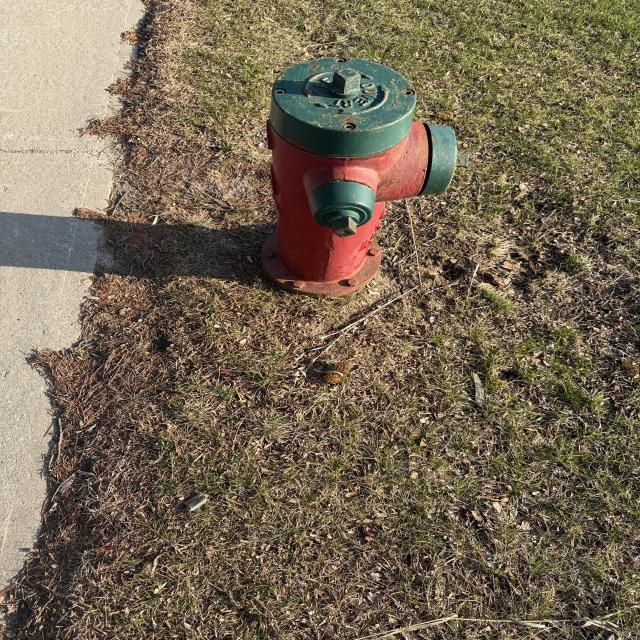Fire hydrant: (260, 56, 469, 299)
